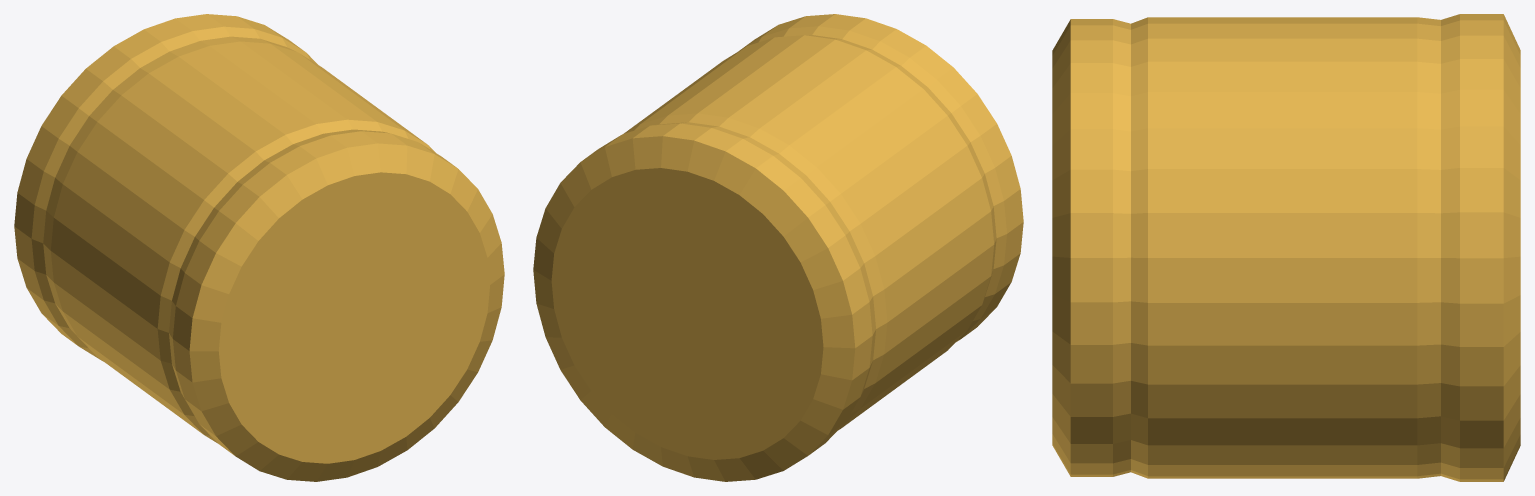
Rendered from hay.fbx.
3 renders of one model, left to right at view 1: azimuth 30°, elevation 25°; view 2: azimuth 150°, elevation 25°; view 3: azimuth 270°, elevation 25°, orthographic. The views are drawn at different scales.
Visible parts, largest first — view 1: Cylinder; view 2: Cylinder; view 3: Cylinder.
Boxes of the visible parts, <box> form: Cylinder: <box>14,14,504,481</box>; Cylinder: <box>533,14,1023,481</box>; Cylinder: <box>1052,14,1520,481</box>.
Bounding box in the file's own units: 10 × 10 × 10.
